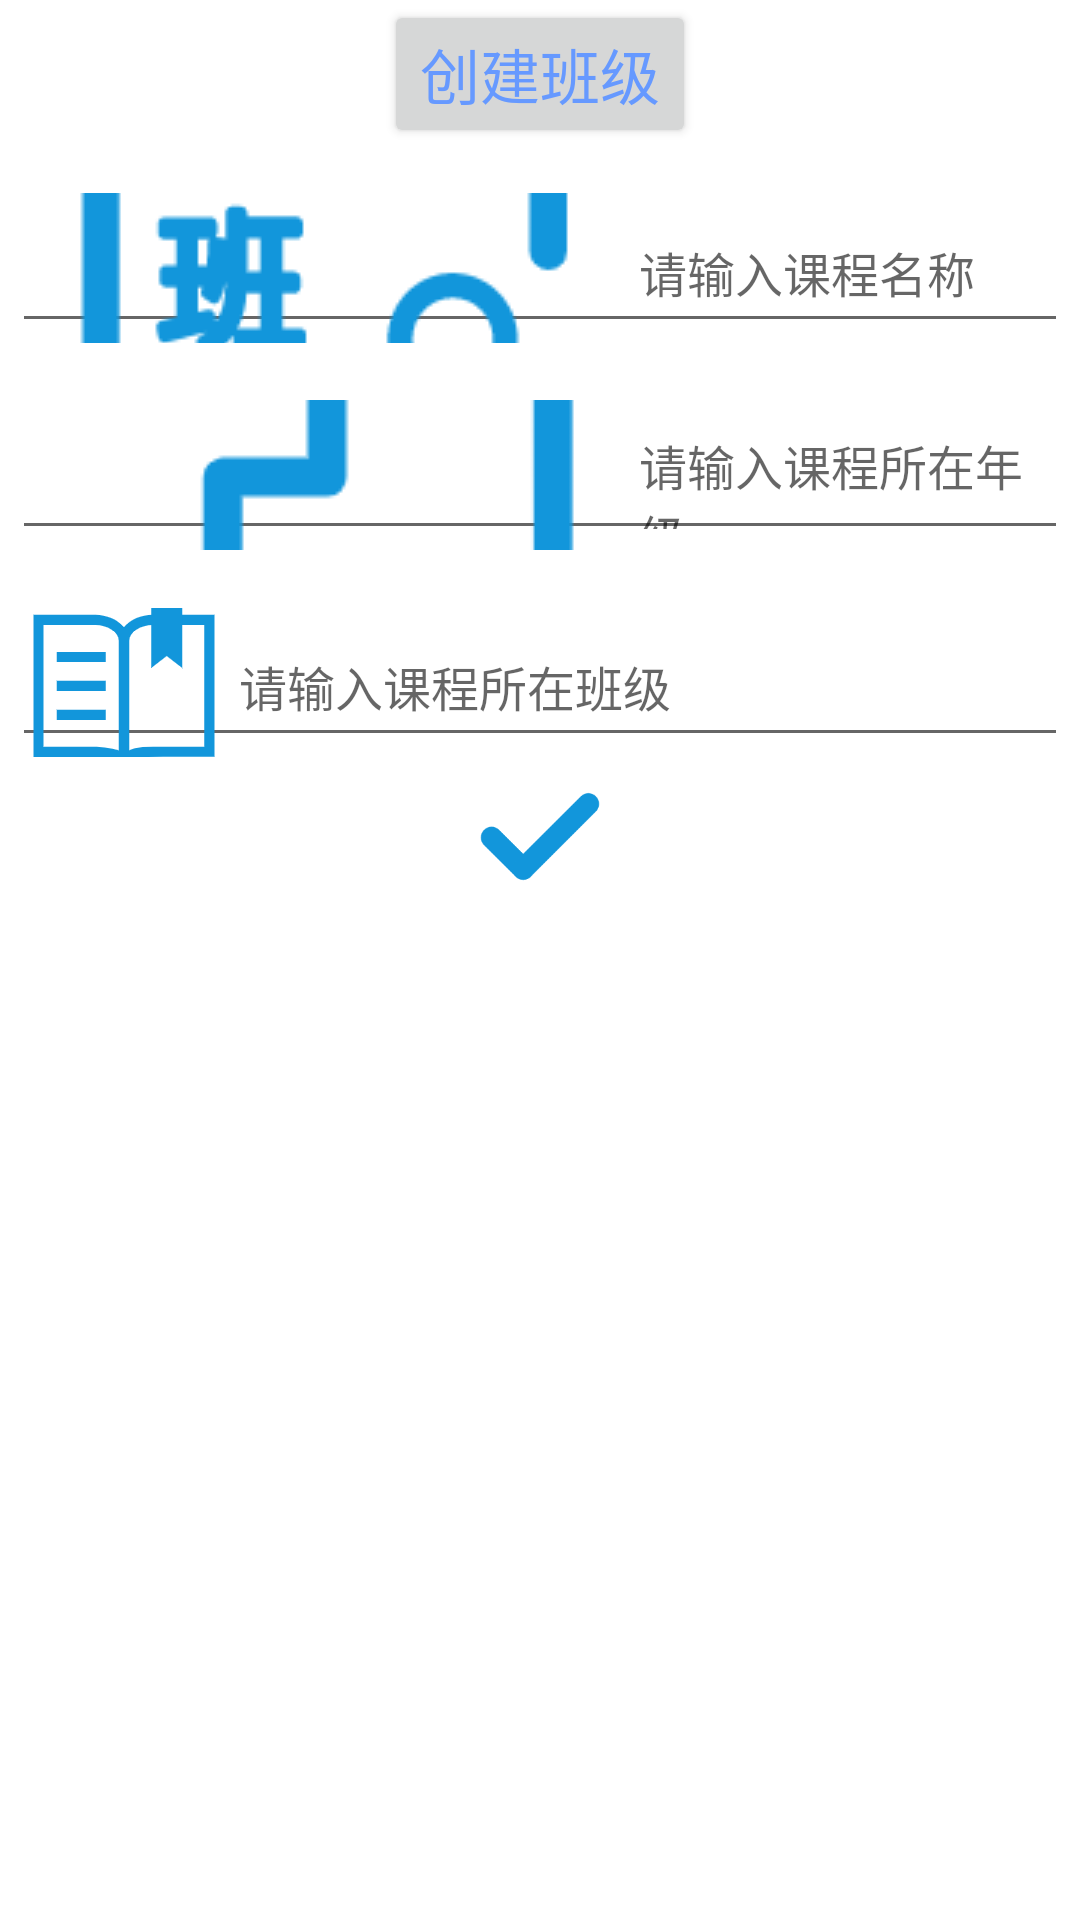

Named icons in this screenshot (1080w x 1920h) and their bounding boxes, box(x1, y1, x2, y2):
submit: box(480, 793, 600, 880)
